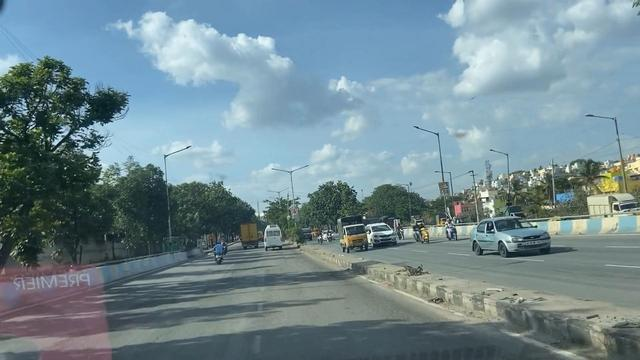HMV: (230, 219, 262, 250), (264, 224, 289, 254)
LMV: (210, 243, 233, 269)
